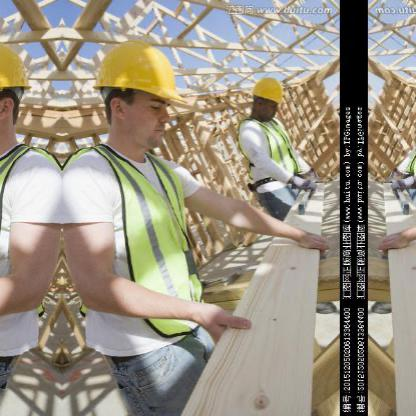helmet: (82, 32, 189, 156), (0, 32, 41, 157), (245, 70, 286, 121)
